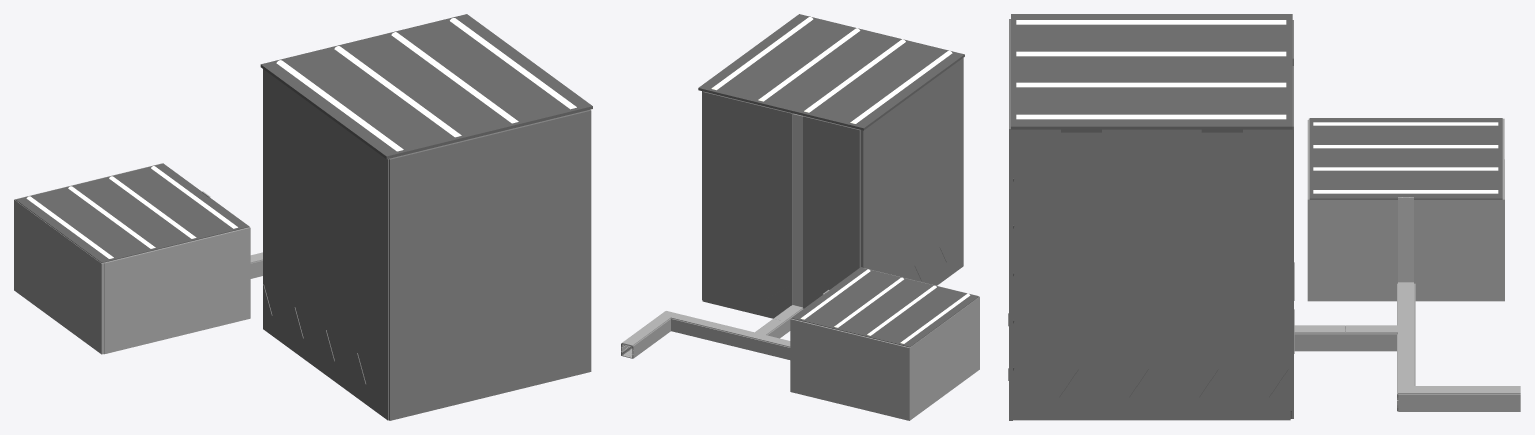
The model's file is Indoor_LayoutBC.fbx.
The picture shows the model from 3 angles, left to right: view 1: azimuth 30°, elevation 25°; view 2: azimuth 150°, elevation 25°; view 3: azimuth 270°, elevation 25°; orthographic projection. The views are drawn at different scales.
Parts seen in each view (by area): view 1: Wall.004, Wall.003, Ceiling.001, Ceiling, Cube.003, Cube.001, Cube.053; view 2: Wall.001, Wall.003, Ceiling.001, Wall, Ceiling, Cube.003, Cube.002, Cube.052, Roof.011, Cube.044, Roof.005, Roof.008 (+1 smaller); view 3: Wall.002, Ceiling.001, Ceiling, Cube.048, Cube.051, Roof.005, Wall.004, Roof.007, Wall.001, Cube.046, Roof.008, Cube.005 (+2 smaller).
Part boxes in pixels (box(x1,y1,x2,y2)): Wall.004: box(389, 110, 591, 420); Wall.003: box(263, 69, 388, 420); Ceiling.001: box(260, 14, 592, 159); Ceiling: box(15, 163, 249, 262); Cube.003: box(14, 199, 104, 354); Cube.001: box(104, 245, 177, 354); Cube.053: box(177, 228, 247, 336); Wall.001: box(702, 91, 793, 318); Wall.003: box(861, 58, 963, 285); Ceiling.001: box(698, 14, 964, 130); Wall: box(803, 116, 860, 308); Ceiling: box(791, 267, 978, 347); Cube.003: box(907, 296, 979, 420); Cube.002: box(849, 333, 907, 420); Cube.052: box(792, 319, 849, 406); Roof.011: box(793, 113, 802, 307); Cube.044: box(671, 318, 759, 352); Roof.005: box(670, 313, 790, 347); Roof.008: box(622, 311, 675, 346); Wall.002: box(1013, 129, 1290, 420); Ceiling.001: box(1011, 14, 1292, 132); Ceiling: box(1309, 118, 1502, 199); Cube.048: box(1414, 198, 1504, 301); Cube.051: box(1307, 198, 1397, 301); Roof.005: box(1398, 282, 1413, 385); Wall.004: box(1008, 19, 1014, 420); Roof.007: box(1398, 197, 1413, 282); Wall.001: box(1290, 66, 1294, 418); Cube.046: box(1344, 333, 1396, 351); Roof.008: box(1398, 386, 1520, 393); Cube.005: box(1294, 333, 1344, 351).
Bounding box in the file's own units: 27112 × 19283 × 30042.
